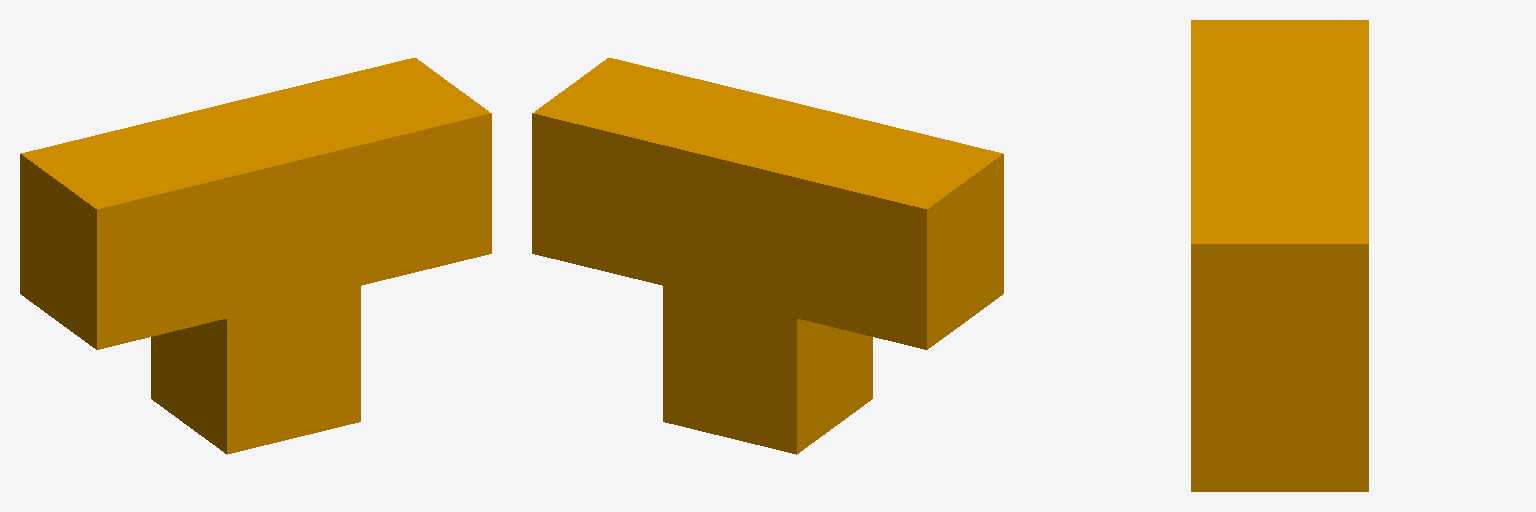
The robot description file, URDF, robot "2_3T_2":
<robot name="2_3T_2">
  <link name="link">
    <visual>
      <geometry>
        <mesh filename="2_3T_2.obj" scale="1 1 1"/>
      </geometry>
    </visual>
    <collision>
      <geometry>
        <mesh filename="2_3T_2.obj" scale="1 1 1"/>
      </geometry>
    </collision>
    <inertial>
      <mass value="1"/>
      <inertia ixx="1" iyy="1" izz="1" ixy="0" ixz="0" iyz="0"/>
      <origin xyz="0 0 0" rpy="0 0 0"/>
    </inertial>
  </link>
</robot>

--- Facts derived from the render (not from the file) ---
Views: 3 orthographic renders of the robot side by side, from view 1: azimuth 30°, elevation 25°; view 2: azimuth 150°, elevation 25°; view 3: azimuth 270°, elevation 25°.
Model 2_3T_2 with 1 links and 0 joints (none), rooted at link, posed every joint at zero.
Visible links, largest first — view 1: link; view 2: link; view 3: link.
Boxes of the visible links, x1=… form: link: x1=20, y1=58, x2=491, y2=454; link: x1=532, y1=58, x2=1003, y2=454; link: x1=1191, y1=20, x2=1368, y2=491.
Size in the robot's own frame: 0.1767 by 0.0592 by 0.1184 metres.
1 mesh visuals loaded from 1 distinct referenced files (1 OBJ).